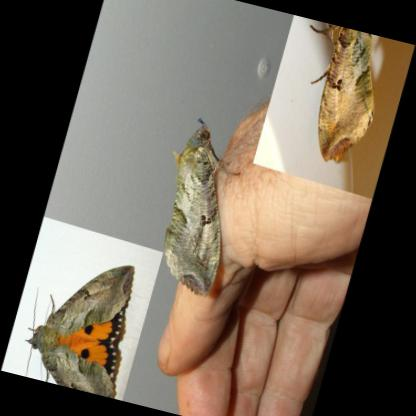fruit sucking moth: (27, 267, 136, 396)
